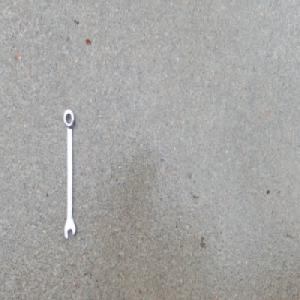Wrench: (62, 108, 77, 241)
